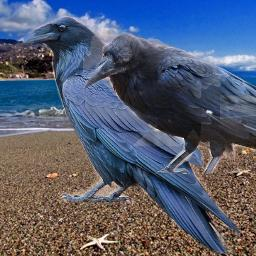Crow: (20, 14, 241, 254), (83, 30, 256, 174)
